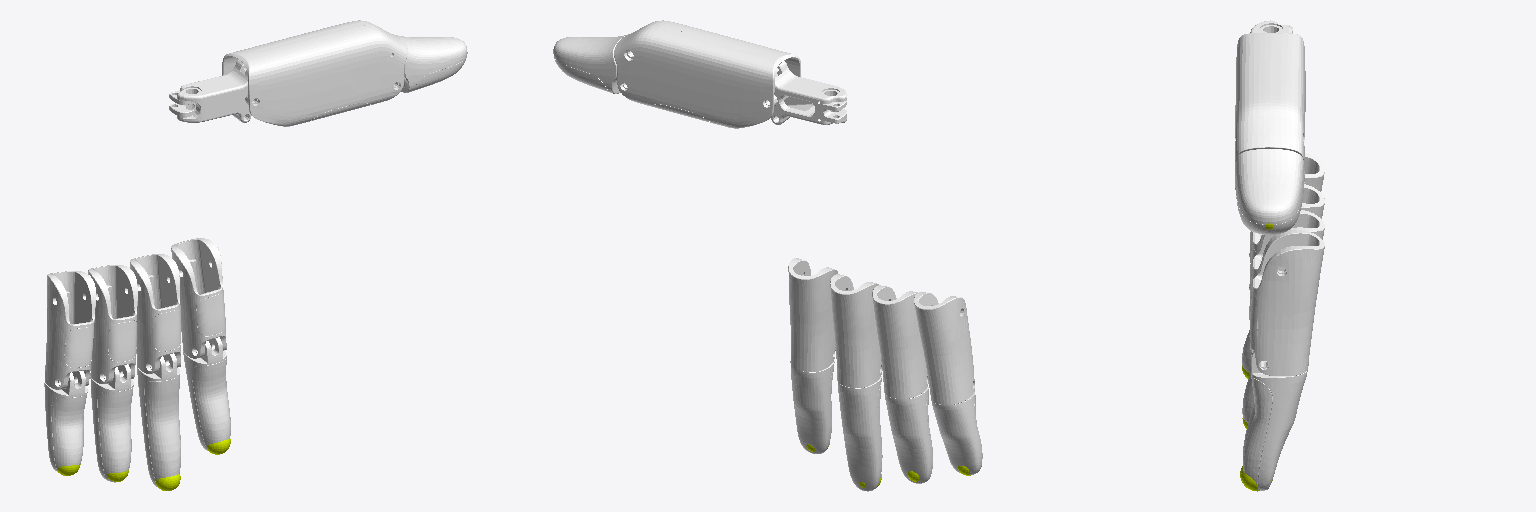
robot.urdf — fourier_left_hand_6dof:
<?xml version="1.0" encoding="utf-8"?>
<!-- 09222025-alpha-1 -->
<robot name="fourier_left_hand_6dof">
  <link name="L_hand_base_link">
    <inertial>
      <origin xyz="-0.0010133 -0.001628 -0.049512" rpy="0 0 0" />
      <mass value="0.29928" />
      <inertia ixx="0.00020599" ixy="-1.22E-06" ixz="8.34E-06" iyy="0.00028701" iyz="7.34E-06" izz="0.0001476" />
    </inertial>
    <visual>
      <origin xyz="0 0 0" rpy="0 0 0" />
      <geometry>
        <mesh filename="../meshes/fourier_hand_6dof/L_hand_base_link.STL" />
      </geometry>
      <material name="">
        <color rgba="1 1 1 1" />
      </material>
    </visual>
    <collision>
      <origin xyz="0 0 0" rpy="0 0 0" />
      <geometry>
        <mesh filename="../meshes/fourier_hand_6dof/L_hand_base_link.STL" />
      </geometry>
    </collision>
  </link>
  <link name="L_thumb_proximal_yaw_link">
    <inertial>
      <origin xyz="0.011674 -0.00039205 0.00044569" rpy="0 0 0" />
      <mass value="0.0084328" />
      <inertia ixx="3E-07" ixy="1E-08" ixz="-5E-08" iyy="8.8E-07" iyz="0" izz="8.5E-07" />
    </inertial>
    <visual>
      <origin xyz="0 0 0" rpy="0 0 0" />
      <geometry>
        <mesh filename="../meshes/fourier_hand_6dof/L_thumb_proximal_yaw_link.STL" />
      </geometry>
      <material name="">
        <color rgba="1 1 1 1" />
      </material>
    </visual>
    <collision>
      <origin xyz="0 0 0" rpy="0 0 0" />
      <geometry>
        <mesh filename="../meshes/fourier_hand_6dof/L_thumb_proximal_yaw_link.STL" />
      </geometry>
    </collision>
  </link>
  <joint name="L_thumb_proximal_yaw_joint" type="revolute">
    <origin xyz="0.022 -0.0155 -0.022992" rpy="0 0 0" />
    <parent link="L_hand_base_link" />
    <child link="L_thumb_proximal_yaw_link" />
    <axis xyz="0 0 1" />
    <limit lower="-1.676" upper="0" effort="0" velocity="0" />
  </joint>
  <link name="L_thumb_proximal_pitch_link">
    <inertial>
      <origin xyz="0.034496 0.00048877 1.942E-05" rpy="0 0 0" />
      <mass value="0.060766" />
      <inertia ixx="5.08E-06" ixy="8.1E-07" ixz="2E-08" iyy="1.71E-05" iyz="0" izz="1.85E-05" />
    </inertial>
    <visual>
      <origin xyz="0 0 0" rpy="0 0 0" />
      <geometry>
        <mesh filename="../meshes/fourier_hand_6dof/L_thumb_proximal_pitch_link.STL" />
      </geometry>
      <material name="">
        <color rgba="1 1 1 1" />
      </material>
    </visual>
    <collision>
      <origin xyz="0 0 0" rpy="0 0 0" />
      <geometry>
        <mesh filename="../meshes/fourier_hand_6dof/L_thumb_proximal_pitch_link.STL" />
      </geometry>
    </collision>
  </link>
  <joint name="L_thumb_proximal_pitch_joint" type="revolute">
    <origin xyz="0.021749 -0.00016321 0" rpy="-1.5708 0 -0.0052052" />
    <parent link="L_thumb_proximal_yaw_link" />
    <child link="L_thumb_proximal_pitch_link" />
    <axis xyz="0 0 1" />
    <limit lower="0" upper="1.159" effort="0" velocity="0" />
  </joint>
  <link name="L_thumb_distal_link">
    <inertial>
      <origin xyz="0.012862 -0.0029035 0" rpy="0 0 0" />
      <mass value="0.018024" />
      <inertia ixx="8.6E-07" ixy="-1.4E-07" ixz="0" iyy="2E-06" iyz="0" izz="1.87E-06" />
    </inertial>
    <visual>
      <origin xyz="0 0 0" rpy="0 0 0" />
      <geometry>
        <mesh filename="../meshes/fourier_hand_6dof/L_thumb_distal_link.STL" />
      </geometry>
      <material name="">
        <color rgba="1 1 1 1" />
      </material>
    </visual>
    <collision>
      <origin xyz="0 0 0" rpy="0 0 0" />
      <geometry>
        <mesh filename="../meshes/fourier_hand_6dof/L_thumb_distal_link.STL" />
      </geometry>
    </collision>
  </link>
  <joint name="L_thumb_distal_joint" type="revolute">
    <origin xyz="0.061549 0.007464 0" rpy="0 1.7448E-05 -0.055652" />
    <parent link="L_thumb_proximal_pitch_link" />
    <child link="L_thumb_distal_link" />
    <axis xyz="0 0 1" />
    <limit lower="0" upper="1.267" effort="0" velocity="0" />
    <mimic joint="L_thumb_proximal_pitch_joint" multiplier="1.06" offset="0" />
  </joint>
  <link name="L_thumb_tip_link">
    <visual>
      <origin xyz="0 0 0" rpy="0 0 0" />
      <geometry>
        <sphere radius="0.005" />
      </geometry>
      <material name="yellow">
        <color rgba="0.9 1 0 1" />
      </material>
    </visual>
  </link>
  <joint name="L_thumb_tip_joint" type="fixed">
    <parent link="L_thumb_distal_link" />
    <child link="L_thumb_tip_link" />
    <origin rpy="0 0 0" xyz="0.0305 -0.001 0" />
  </joint>
  <link name="L_index_proximal_link">
    <inertial>
      <origin xyz="0.013885 0.0013346 9.91E-06" rpy="0 0 0" />
      <mass value="0.011244" />
      <inertia ixx="7E-07" ixy="2.1E-07" ixz="0" iyy="1.81E-06" iyz="0" izz="1.87E-06" />
    </inertial>
    <visual>
      <origin xyz="0 0 0" rpy="0 0 0" />
      <geometry>
        <mesh filename="../meshes/fourier_hand_6dof/L_index_proximal_link.STL" />
      </geometry>
      <material name="">
        <color rgba="1 1 1 1" />
      </material>
    </visual>
    <collision>
      <origin xyz="0 0 0" rpy="0 0 0" />
      <geometry>
        <mesh filename="../meshes/fourier_hand_6dof/L_index_proximal_link.STL" />
      </geometry>
    </collision>
  </link>
  <joint name="L_index_proximal_joint" type="revolute">
    <origin xyz="0.026868 -0.0123 -0.093989" rpy="0 1.5184 0" />
    <parent link="L_hand_base_link" />
    <child link="L_index_proximal_link" />
    <axis xyz="0 0 1" />
    <limit lower="-1.602" upper="0" effort="0" velocity="0" />
  </joint>
  <link name="L_index_intermediate_link">
    <inertial>
      <origin xyz="0.014739 0.0047926 6.8E-06" rpy="0 0 0" />
      <mass value="0.0027085" />
      <inertia ixx="8E-08" ixy="3E-08" ixz="0" iyy="4.9E-07" iyz="0" izz="4.9E-07" />
    </inertial>
    <visual>
      <origin xyz="0 0 0" rpy="0 0 0" />
      <geometry>
        <mesh filename="../meshes/fourier_hand_6dof/L_index_intermediate_link.STL" />
      </geometry>
      <material name="">
        <color rgba="1 1 1 1" />
      </material>
    </visual>
    <collision>
      <origin xyz="0 0 0" rpy="0 0 0" />
      <geometry>
        <mesh filename="../meshes/fourier_hand_6dof/L_index_intermediate_link.STL" />
      </geometry>
    </collision>
  </link>
  <joint name="L_index_intermediate_joint" type="revolute">
    <origin xyz="0.031533 -0.0054444 0" rpy="0 0.00014037 -0.0018338" />
    <parent link="L_index_proximal_link" />
    <child link="L_index_intermediate_link" />
    <axis xyz="0 0 1" />
    <limit lower="-1.791" upper="0" effort="0" velocity="0" />
    <mimic joint="L_index_proximal_joint" multiplier="0.975" offset="0" />
  </joint>
  <link name="L_index_tip_link">
    <visual>
      <origin xyz="0 0 0" rpy="0 0 0" />
      <geometry>
        <sphere radius="0.005" />
      </geometry>
      <material name="yellow">
        <color rgba="0.9 1 0 1" />
      </material>
    </visual>
  </link>
  <joint name="L_index_tip_joint" type="fixed">
    <parent link="L_index_intermediate_link" />
    <child link="L_index_tip_link" />
    <origin rpy="0 0 0" xyz="0.0390 -0.0020 0" />
  </joint>
  <link name="L_middle_proximal_link">
    <inertial>
      <origin xyz="0.013888 0.001304 9.91E-06" rpy="0 0 0" />
      <mass value="0.011244" />
      <inertia ixx="7E-07" ixy="2.2E-07" ixz="0" iyy="1.81E-06" iyz="0" izz="1.87E-06" />
    </inertial>
    <visual>
      <origin xyz="0 0 0" rpy="0 0 0" />
      <geometry>
        <mesh filename="../meshes/fourier_hand_6dof/L_middle_proximal_link.STL" />
      </geometry>
      <material name="">
        <color rgba="1 1 1 1" />
      </material>
    </visual>
    <collision>
      <origin xyz="0 0 0" rpy="0 0 0" />
      <geometry>
        <mesh filename="../meshes/fourier_hand_6dof/L_middle_proximal_link.STL" />
      </geometry>
    </collision>
  </link>
  <joint name="L_middle_proximal_joint" type="revolute">
    <origin xyz="0.0085 -0.0123 -0.095992" rpy="0 1.5708 0" />
    <parent link="L_hand_base_link" />
    <child link="L_middle_proximal_link" />
    <axis xyz="0 0 1" />
    <limit lower="-1.603" upper="0" effort="0" velocity="0" />
  </joint>
  <link name="L_middle_intermediate_link">
    <inertial>
      <origin xyz="0.01836 0.0048894 0" rpy="0 0 0" />
      <mass value="0.0032739" />
      <inertia ixx="9E-08" ixy="5E-08" ixz="0" iyy="7.9E-07" iyz="0" izz="7.8E-07" />
    </inertial>
    <visual>
      <origin xyz="0 0 0" rpy="0 0 0" />
      <geometry>
        <mesh filename="../meshes/fourier_hand_6dof/L_middle_intermediate_link.STL" />
      </geometry>
      <material name="">
        <color rgba="1 1 1 1" />
      </material>
    </visual>
    <collision>
      <origin xyz="0 0 0" rpy="0 0 0" />
      <geometry>
        <mesh filename="../meshes/fourier_hand_6dof/L_middle_intermediate_link.STL" />
      </geometry>
    </collision>
  </link>
  <joint name="L_middle_intermediate_joint" type="revolute">
    <origin xyz="0.031521 -0.0055139 0" rpy="0 0.00015517 0.0048744" />
    <parent link="L_middle_proximal_link" />
    <child link="L_middle_intermediate_link" />
    <axis xyz="0 0 1" />
    <limit lower="-1.791" upper="0" effort="0" velocity="0" />
    <mimic joint="L_middle_proximal_joint" multiplier="0.975" offset="0" />
  </joint>
  <link name="L_middle_tip_link">
    <visual>
      <origin xyz="0 0 0" rpy="0 0 0" />
      <geometry>
        <sphere radius="0.005" />
      </geometry>
      <material name="yellow">
        <color rgba="0.9 1 0 1" />
      </material>
    </visual>
  </link>
  <joint name="L_middle_tip_joint" type="fixed">
    <parent link="L_middle_intermediate_link" />
    <child link="L_middle_tip_link" />
    <origin rpy="0 0 0" xyz="0.047 -0.0025 0" />
  </joint>
  <link name="L_ring_proximal_link">
    <inertial>
      <origin xyz="0.013886 0.0013292 0.00025991" rpy="0 0 0" />
      <mass value="0.011244" />
      <inertia ixx="7E-07" ixy="2.1E-07" ixz="0" iyy="1.81E-06" iyz="0" izz="1.87E-06" />
    </inertial>
    <visual>
      <origin xyz="0 0 0" rpy="0 0 0" />
      <geometry>
        <mesh filename="../meshes/fourier_hand_6dof/L_ring_proximal_link.STL" />
      </geometry>
      <material name="">
        <color rgba="1 1 1 1" />
      </material>
    </visual>
    <collision>
      <origin xyz="0 0 0" rpy="0 0 0" />
      <geometry>
        <mesh filename="../meshes/fourier_hand_6dof/L_ring_proximal_link.STL" />
      </geometry>
    </collision>
  </link>
  <joint name="L_ring_proximal_joint" type="revolute">
    <origin xyz="-0.010211 -0.0123 -0.095924" rpy="3.1416 1.5184 3.1416" />
    <parent link="L_hand_base_link" />
    <child link="L_ring_proximal_link" />
    <axis xyz="0 0 1" />
    <limit lower="-1.602" upper="0" effort="0" velocity="0" />
  </joint>
  <link name="L_ring_intermediate_link">
    <inertial>
      <origin xyz="0.014739 0.0047926 6.8E-06" rpy="0 0 0" />
      <mass value="0.0027085" />
      <inertia ixx="8E-08" ixy="3E-08" ixz="0" iyy="4.9E-07" iyz="0" izz="4.9E-07" />
    </inertial>
    <visual>
      <origin xyz="0 0 0" rpy="0 0 0" />
      <geometry>
        <mesh filename="../meshes/fourier_hand_6dof/L_ring_intermediate_link.STL" />
      </geometry>
      <material name="">
        <color rgba="1 1 1 1" />
      </material>
    </visual>
    <collision>
      <origin xyz="0 0 0" rpy="0 0 0" />
      <geometry>
        <mesh filename="../meshes/fourier_hand_6dof/L_ring_intermediate_link.STL" />
      </geometry>
    </collision>
  </link>
  <joint name="L_ring_intermediate_joint" type="revolute">
    <origin xyz="0.031531 -0.0054567 0.00025" rpy="0 0.00014037 -0.0025338" />
    <parent link="L_ring_proximal_link" />
    <child link="L_ring_intermediate_link" />
    <axis xyz="0 0 1" />
    <limit lower="-1.798" upper="0" effort="0" velocity="0" />
    <mimic joint="L_ring_proximal_joint" multiplier="0.975" offset="0" />
  </joint>
  <link name="L_ring_tip_link">
    <visual>
      <origin xyz="0 0 0" rpy="0 0 0" />
      <geometry>
        <sphere radius="0.005" />
      </geometry>
      <material name="green">
        <color rgba="0.9 1 0 1" />
      </material>
    </visual>
  </link>
  <joint name="L_ring_tip_joint" type="fixed">
    <parent link="L_ring_intermediate_link" />
    <child link="L_ring_tip_link" />
    <origin rpy="0 0 0" xyz="0.0385 -0.0015 0" />
  </joint>
  <link name="L_pinky_proximal_link">
    <inertial>
      <origin xyz="0.013886 0.0013317 9.91E-06" rpy="0 0 0" />
      <mass value="0.011244" />
      <inertia ixx="7E-07" ixy="2.1E-07" ixz="0" iyy="1.81E-06" iyz="0" izz="1.87E-06" />
    </inertial>
    <visual>
      <origin xyz="0 0 0" rpy="0 0 0" />
      <geometry>
        <mesh filename="../meshes/fourier_hand_6dof/L_pinky_proximal_link.STL" />
      </geometry>
      <material name="">
        <color rgba="1 1 1 1" />
      </material>
    </visual>
    <collision>
      <origin xyz="0 0 0" rpy="0 0 0" />
      <geometry>
        <mesh filename="../meshes/fourier_hand_6dof/L_pinky_proximal_link.STL" />
      </geometry>
    </collision>
  </link>
  <joint name="L_pinky_proximal_joint" type="revolute">
    <origin xyz="-0.028228 -0.0123 -0.094012" rpy="3.1416 1.4661 3.1416" />
    <parent link="L_hand_base_link" />
    <child link="L_pinky_proximal_link" />
    <axis xyz="0 0 1" />
    <limit lower="-1.602" upper="0" effort="0" velocity="0" />
  </joint>
  <link name="L_pinky_intermediate_link">
    <inertial>
      <origin xyz="0.012117 0.0047104 1.872E-05" rpy="0 0 0" />
      <mass value="0.0024076" />
      <inertia ixx="7E-08" ixy="1E-08" ixz="0" iyy="3.2E-07" iyz="0" izz="3.2E-07" />
    </inertial>
    <visual>
      <origin xyz="0 0 0" rpy="0 0 0" />
      <geometry>
        <mesh filename="../meshes/fourier_hand_6dof/L_pinky_intermediate_link.STL" />
      </geometry>
      <material name="">
        <color rgba="1 1 1 1" />
      </material>
    </visual>
    <collision>
      <origin xyz="0 0 0" rpy="0 0 0" />
      <geometry>
        <mesh filename="../meshes/fourier_hand_6dof/L_pinky_intermediate_link.STL" />
      </geometry>
    </collision>
  </link>
  <joint name="L_pinky_intermediate_joint" type="revolute">
    <origin xyz="0.031532 -0.005451 0" rpy="0 0.00032164 -0.011403" />
    <parent link="L_pinky_proximal_link" />
    <child link="L_pinky_intermediate_link" />
    <axis xyz="0 0 1" />
    <limit lower="-1.796" upper="0" effort="0" velocity="0" />
    <mimic joint="L_pinky_proximal_joint" multiplier="0.975" offset="0" />
  </joint>
  <link name="L_pinky_tip_link">
    <visual>
      <origin xyz="0 0 0" rpy="0 0 0" />
      <geometry>
        <sphere radius="0.005" />
      </geometry>
      <material name="yellow">
        <color rgba="0.9 1 0 1" />
      </material>
    </visual>
  </link>
  <joint name="L_pinky_tip_joint" type="fixed">
    <parent link="L_pinky_intermediate_link" />
    <child link="L_pinky_tip_link" />
    <origin rpy="0 0 0" xyz="0.033 -0.0015 0" />
  </joint>
</robot>

--- Render facts (derived) ---
The picture shows the robot from 3 angles, left to right: view 1: azimuth 30°, elevation 25°; view 2: azimuth 150°, elevation 25°; view 3: azimuth 270°, elevation 25°; orthographic projection.
Robot: fourier_left_hand_6dof — 17 links, 16 joints (11 revolute, 5 fixed); root link L_hand_base_link; default pose: all joints at 0.
Links seen in each view (by area): view 1: L_thumb_proximal_pitch_link, L_pinky_proximal_link, L_index_proximal_link, L_middle_proximal_link, L_ring_proximal_link, L_middle_intermediate_link, L_ring_intermediate_link, L_index_intermediate_link, L_thumb_proximal_yaw_link, L_pinky_intermediate_link, L_thumb_distal_link; view 2: L_thumb_proximal_pitch_link, L_pinky_proximal_link, L_ring_proximal_link, L_middle_proximal_link, L_index_proximal_link, L_middle_intermediate_link, L_thumb_proximal_yaw_link, L_ring_intermediate_link, L_index_intermediate_link, L_thumb_distal_link, L_pinky_intermediate_link; view 3: L_index_proximal_link, L_thumb_proximal_pitch_link, L_thumb_distal_link, L_index_intermediate_link, L_middle_proximal_link, L_ring_proximal_link, L_pinky_proximal_link.
Link boxes in pixels (x1,y1,x2,y2): L_thumb_proximal_pitch_link: (222,20,406,126); L_pinky_proximal_link: (45,271,95,389); L_index_proximal_link: (171,238,226,358); L_middle_proximal_link: (130,254,180,373); L_ring_proximal_link: (88,265,137,383); L_middle_intermediate_link: (137,353,180,486); L_ring_intermediate_link: (90,364,133,482); L_index_intermediate_link: (183,337,230,450); L_thumb_proximal_yaw_link: (169,60,250,122); L_pinky_intermediate_link: (44,371,87,471); L_thumb_distal_link: (395,35,467,92); L_thumb_proximal_pitch_link: (614,20,800,128); L_pinky_proximal_link: (914,292,974,404); L_ring_proximal_link: (872,285,928,398); L_middle_proximal_link: (830,274,881,387); L_index_proximal_link: (788,258,837,371); L_middle_intermediate_link: (838,376,882,491); L_thumb_proximal_yaw_link: (771,61,846,124); L_ring_intermediate_link: (885,387,932,483); L_index_intermediate_link: (791,361,834,453); L_thumb_distal_link: (553,35,625,93); L_pinky_intermediate_link: (932,392,982,474); L_index_proximal_link: (1249,229,1324,375); L_thumb_proximal_pitch_link: (1235,33,1305,189); L_thumb_distal_link: (1235,149,1303,234); L_index_intermediate_link: (1243,348,1307,490); L_middle_proximal_link: (1249,210,1324,319); L_ring_proximal_link: (1249,184,1324,289); L_pinky_proximal_link: (1249,153,1324,262).
Size in the robot's own frame: 0.1819 by 0.0276 by 0.172 metres.
11 mesh visuals loaded from 12 distinct referenced files (11 binary STL); not drawn: 1 (reference not matched to a file when rendering).